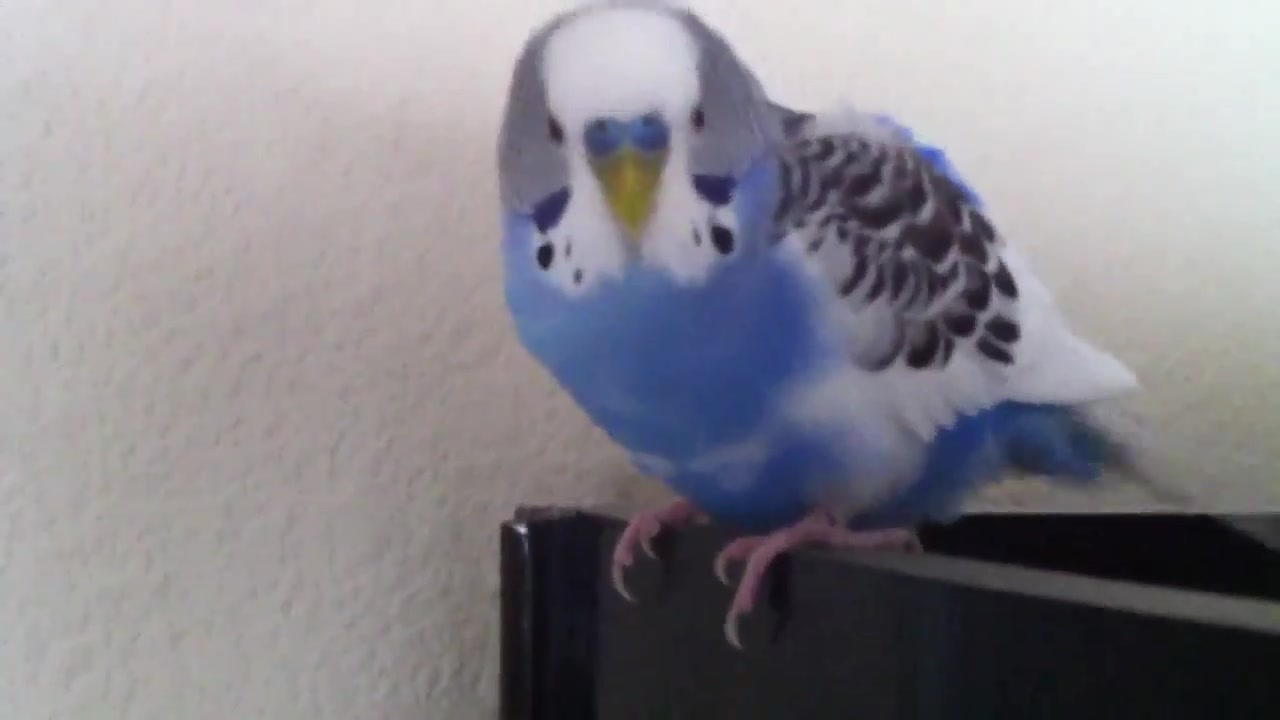bird: (496, 1, 1280, 649)
